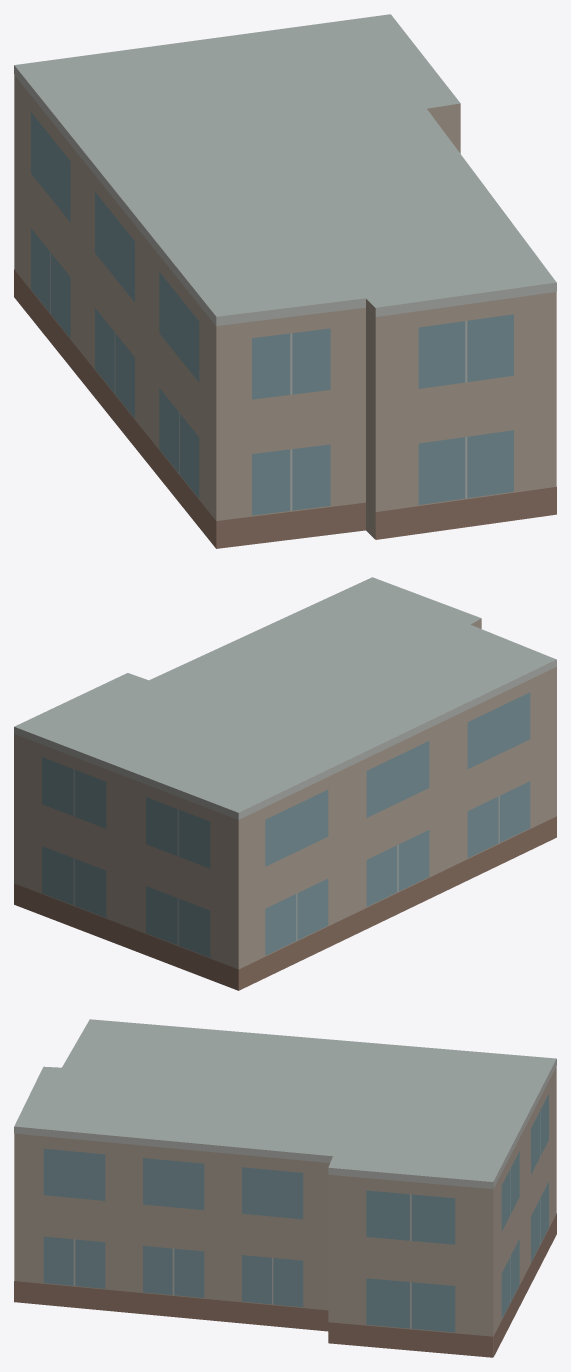
Rendered from survey-upis-32669104.glb.
The picture shows the model from 3 angles, top to bottom: view 1: azimuth 30°, elevation 25°; view 2: azimuth 150°, elevation 25°; view 3: azimuth 270°, elevation 25°; orthographic projection. The views are drawn at different scales.
Visible parts, largest first — view 1: survey-upis-32669104.tmp; view 2: survey-upis-32669104.tmp; view 3: survey-upis-32669104.tmp.
Boxes of the visible parts, x1,y1,x2,y2 form: survey-upis-32669104.tmp: [14, 14, 556, 548]; survey-upis-32669104.tmp: [14, 577, 556, 990]; survey-upis-32669104.tmp: [14, 1019, 556, 1357].
Size of the model in its own units: 12.15 by 6.1 by 17.1.
